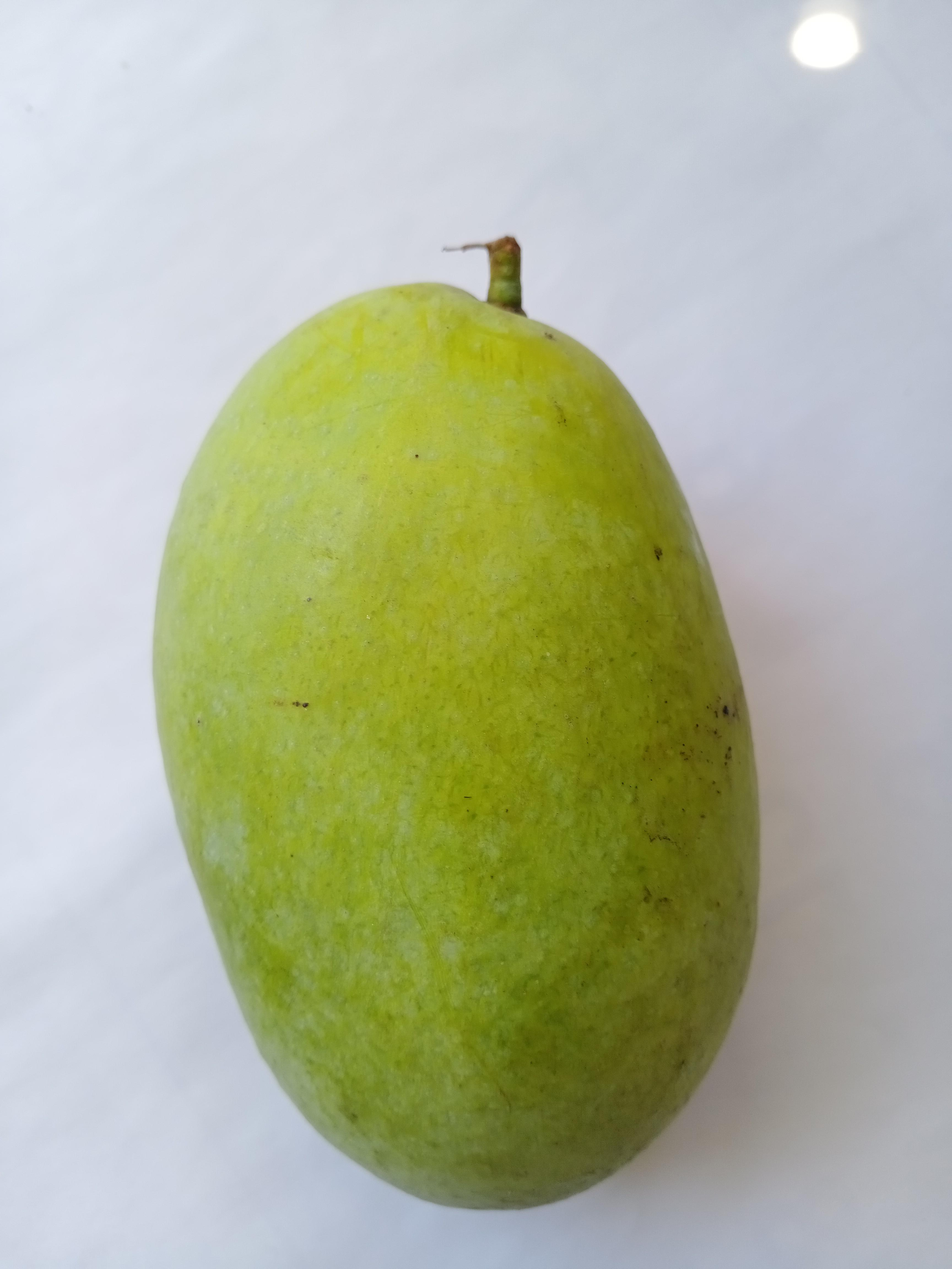Mango Unripe: (102, 157, 810, 1253)
